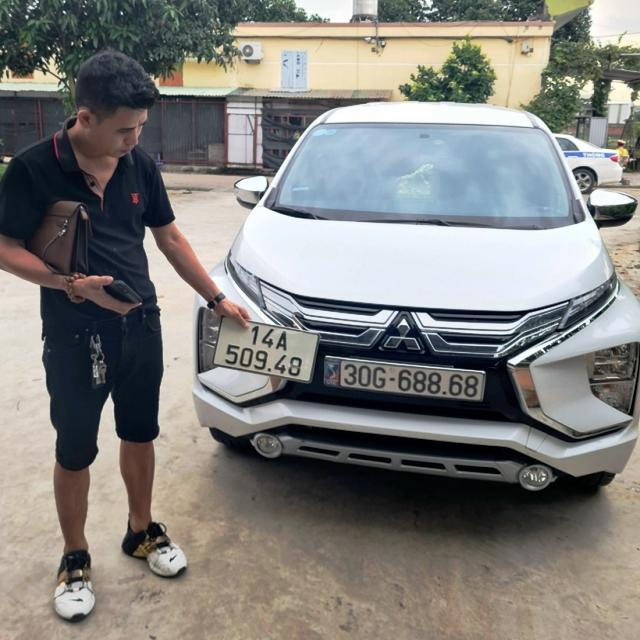license_plate: (324, 358, 488, 404), (214, 318, 321, 384)
